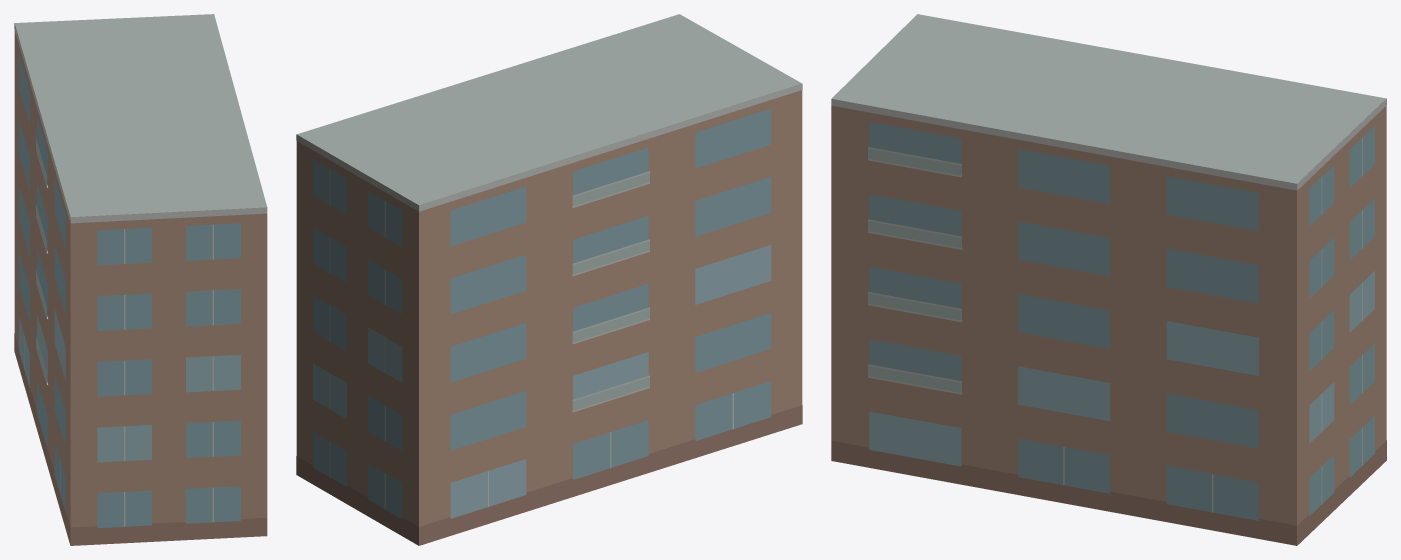
The model's file is survey-upis-32526539.glb.
3 views of the same model, side by side, from view 1: azimuth 30°, elevation 25°; view 2: azimuth 150°, elevation 25°; view 3: azimuth 270°, elevation 25° (orthographic). The views are drawn at different scales.
Parts seen in each view (by area): view 1: survey-upis-32526539.tmp; view 2: survey-upis-32526539.tmp; view 3: survey-upis-32526539.tmp.
Boxes of the visible parts, bbox=[...] form: survey-upis-32526539.tmp: bbox=[14, 14, 267, 545]; survey-upis-32526539.tmp: bbox=[296, 14, 802, 545]; survey-upis-32526539.tmp: bbox=[831, 14, 1386, 545].
Size of the model in its own units: 13.09 by 13 by 18.08.
